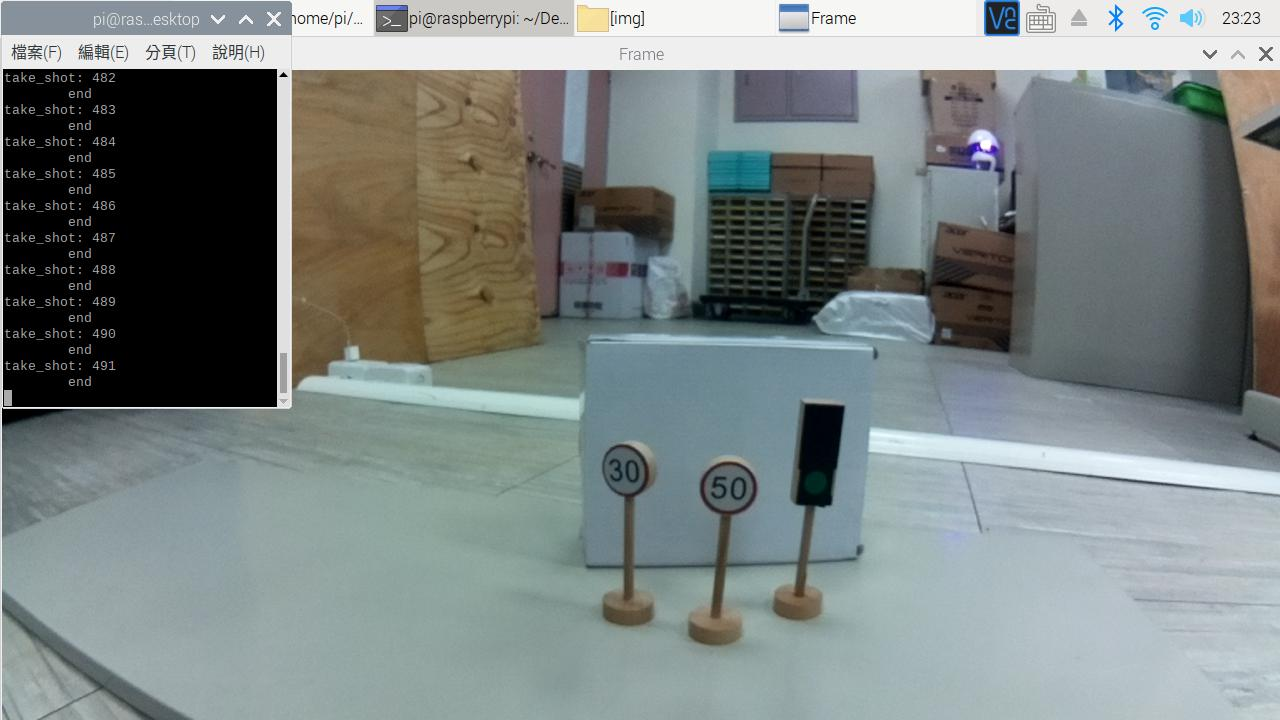Green: (789, 390, 852, 511)
Speed30: (595, 440, 666, 507)
Speed50: (700, 451, 765, 520)
